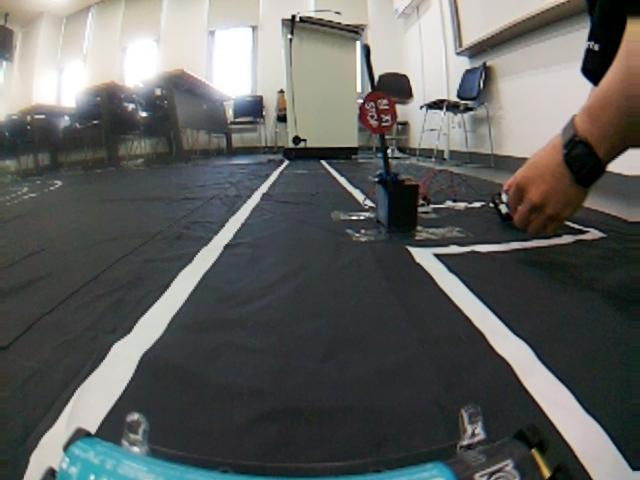sign_stop: (356, 86, 403, 138)
straight: (30, 266, 640, 474)
